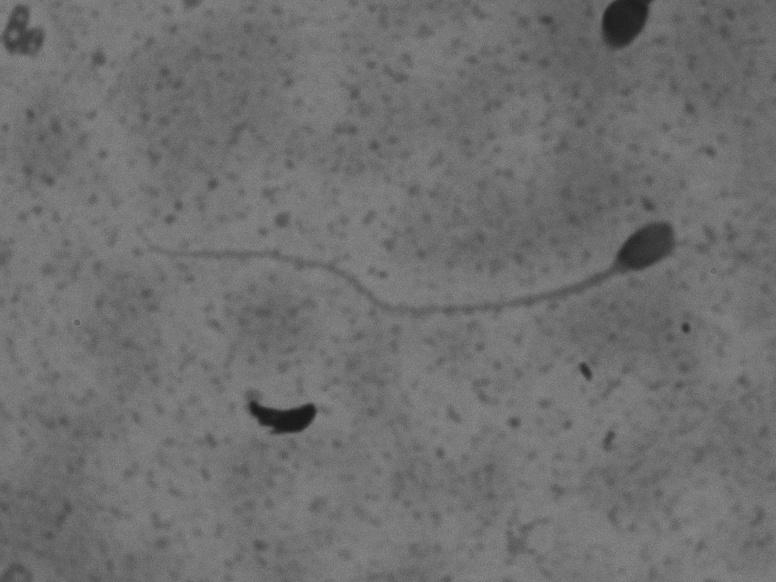Normal: (108, 198, 693, 331)
